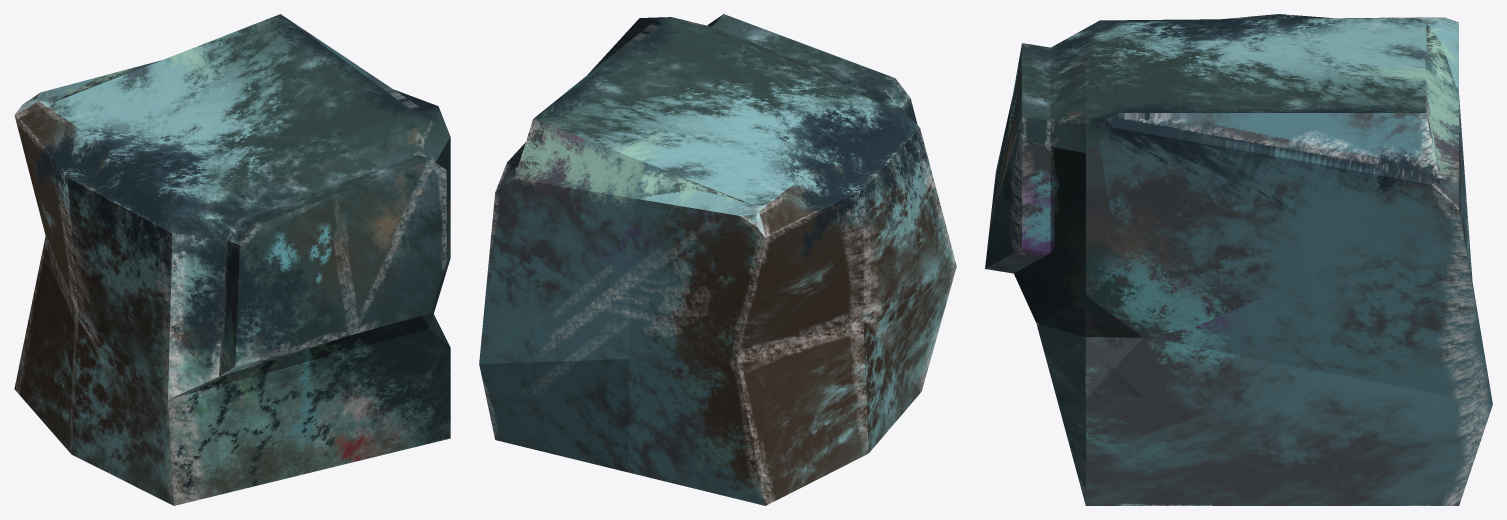
The model's file is Rock 3.fbx.
3 views of the same model, side by side, from view 1: azimuth 30°, elevation 25°; view 2: azimuth 150°, elevation 25°; view 3: azimuth 270°, elevation 25° (orthographic). The views are drawn at different scales.
Visible parts, largest first — view 1: Rock3; view 2: Rock3; view 3: Rock3.
Part boxes in pixels (x1,y1,x2,y2): Rock3: (14,14,450,505); Rock3: (479,14,956,505); Rock3: (985,14,1492,505).
Bounding box in the file's own units: 219 × 224 × 272.
1 material, 1 textured.
